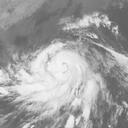cyclone: (13, 40, 99, 120)
